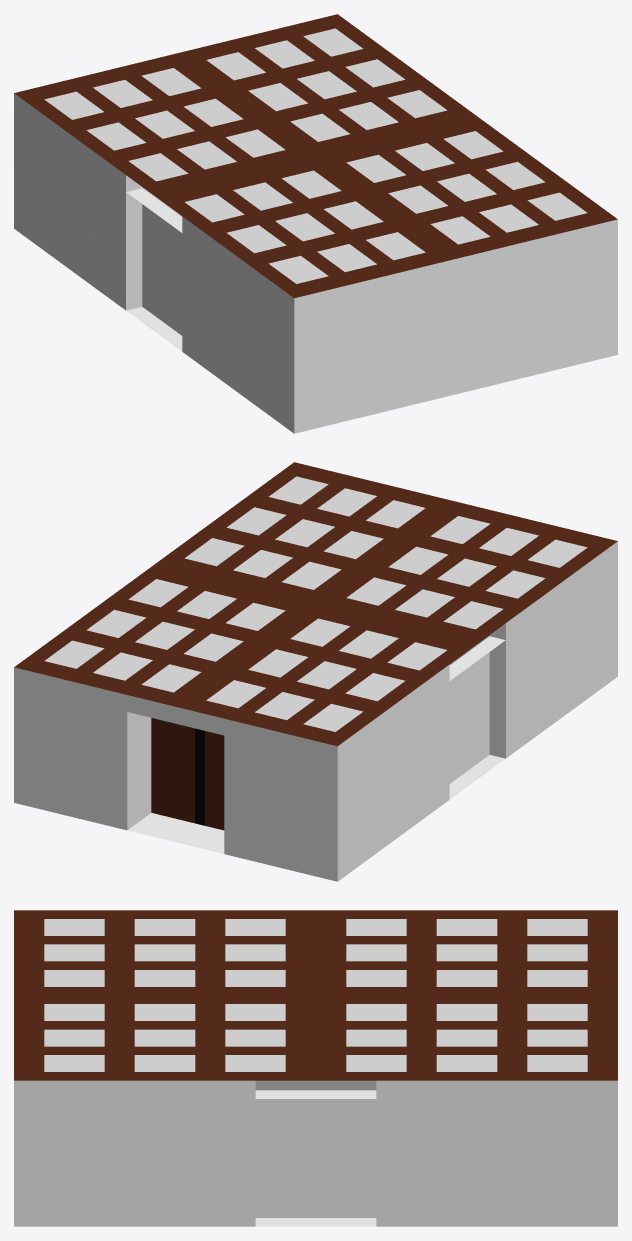
3 renders of one model, top to bottom at view 1: azimuth 30°, elevation 25°; view 2: azimuth 150°, elevation 25°; view 3: azimuth 270°, elevation 25°, orthographic. The views are drawn at different scales.
Visible parts, largest first — view 1: Plane; view 2: Plane; view 3: Plane.
Boxes of the visible parts, left/top/right/bottom form: Plane: left=14, top=14, right=617, bottom=433; Plane: left=14, top=462, right=617, bottom=881; Plane: left=14, top=910, right=617, bottom=1226.
Size of the model in its own units: 10 by 4 by 15.
